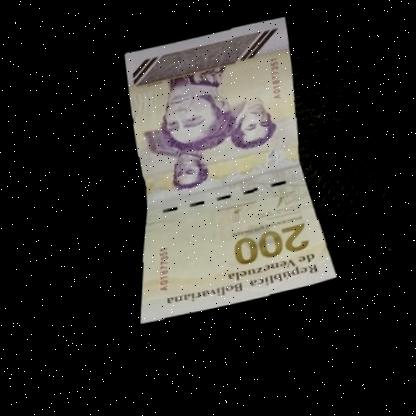two_hundred-front-vef: (94, 11, 347, 329)
